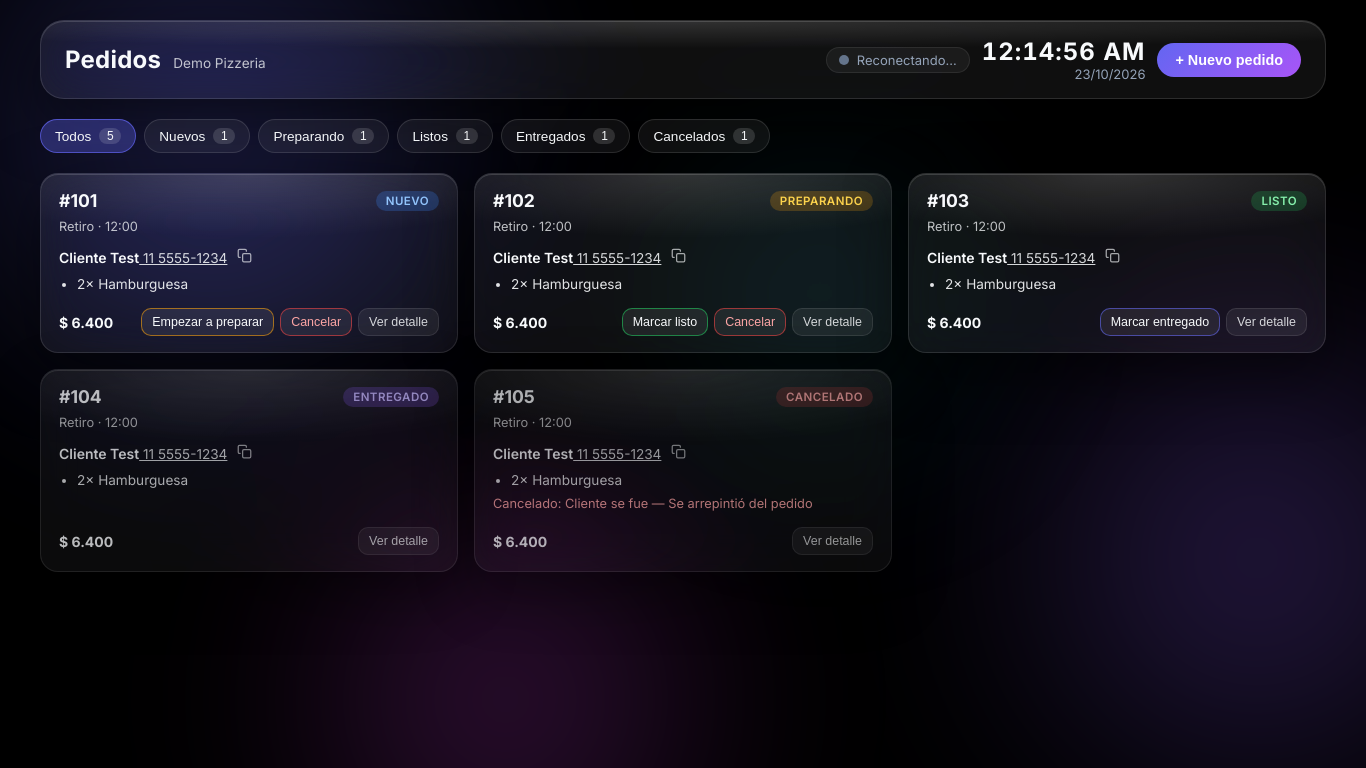
Test: orders page — full-day, all-status view (S4) › the Cancelados filter shows only the cancelled order
Step 1. Click the button "Cancelados 1" → click(704, 136), box [638,119,770,153]
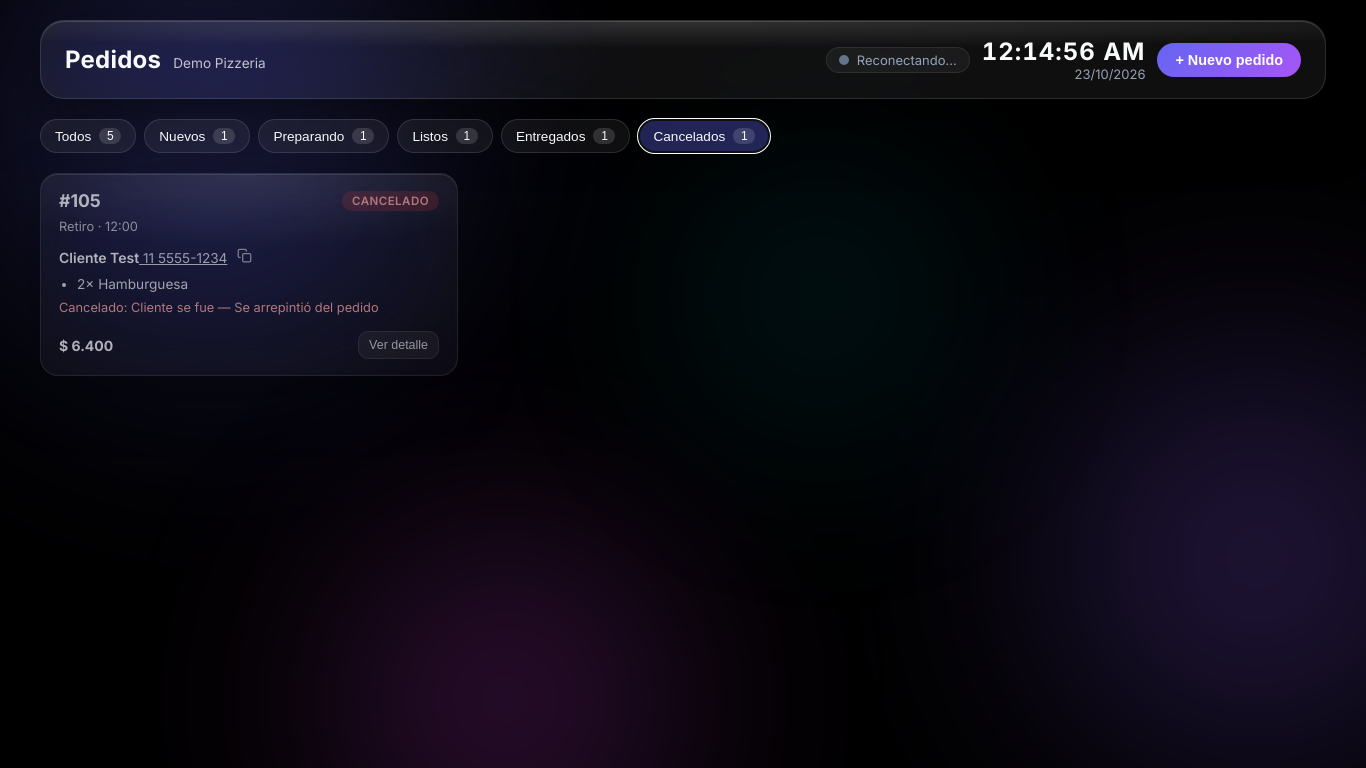
Expected: the text "#105" is shown, [59,190,101,211]
Expected: the text "#101" is gone
Expected: the text "#104" is gone
